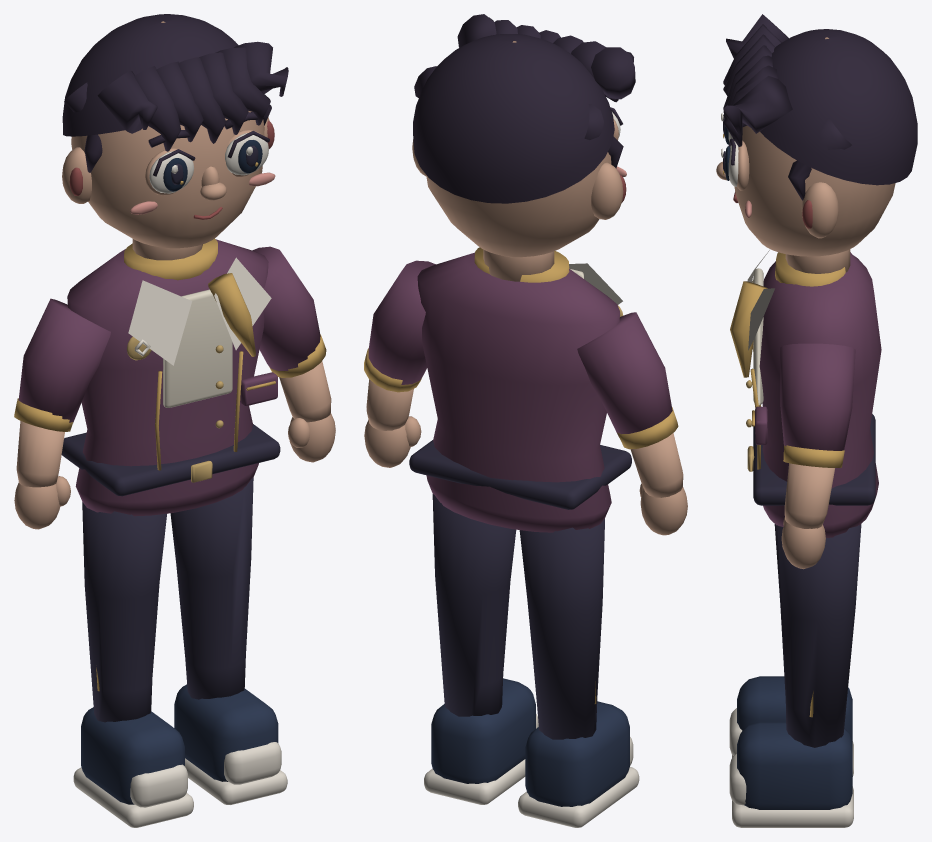
File: xingyin-characters-v1__elite_dragon_examiner.glb
The picture shows the model from 3 angles, left to right: view 1: azimuth 30°, elevation 25°; view 2: azimuth 150°, elevation 25°; view 3: azimuth 270°, elevation 25°; orthographic projection.
Visible parts, largest first — view 1: figure.025; view 2: figure.025; view 3: figure.025.
Part boxes in pixels (bbox=[...]): figure.025: bbox=[14, 14, 335, 827]; figure.025: bbox=[364, 14, 687, 827]; figure.025: bbox=[716, 14, 917, 827].
Bounding box in the file's own units: 1.15 × 2.63 × 0.6376.
